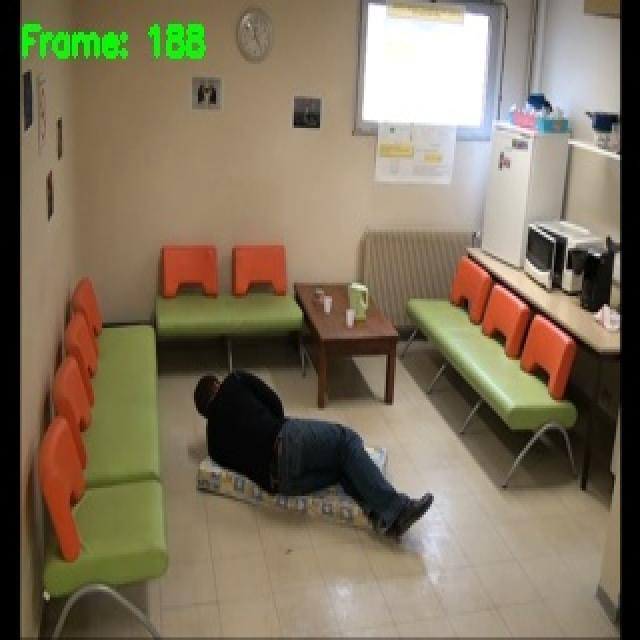fall: (194, 370, 422, 534)
